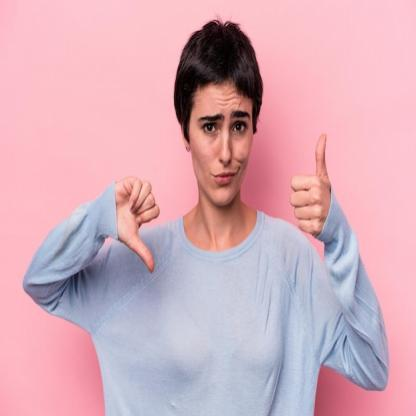thumb_down: (110, 171, 162, 276)
thumb_up: (288, 129, 336, 241)
